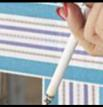Cigarette: (43, 7, 88, 104)
